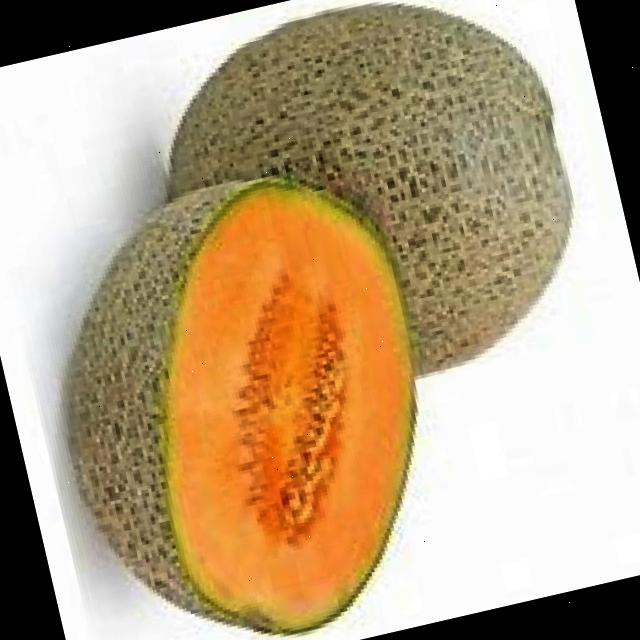Hami Melon: (9, 148, 473, 640), (140, 0, 604, 421)
